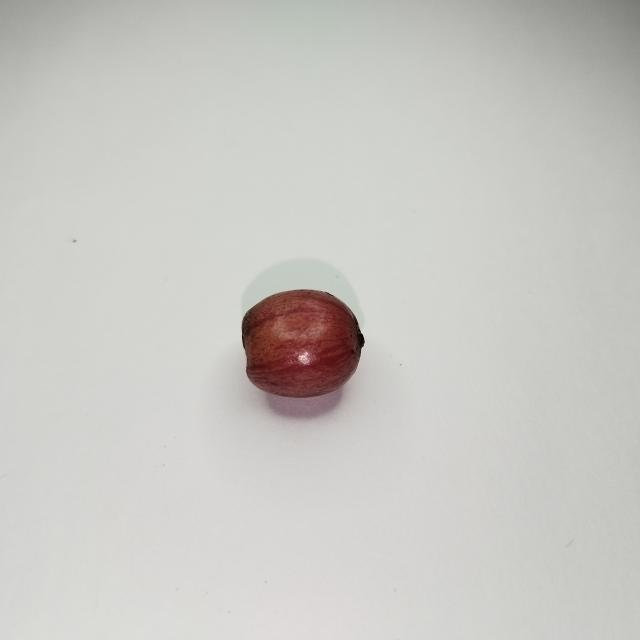Sano: (243, 289, 364, 401)
